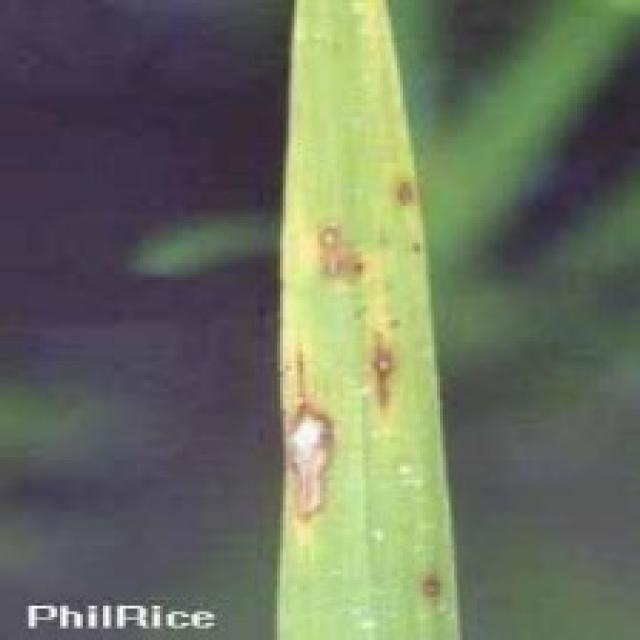Rice___Rice_Blast: (272, 0, 468, 637)
